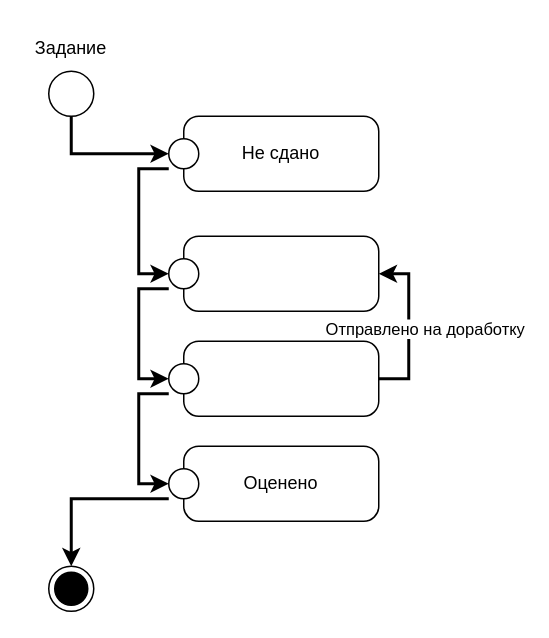
Some shapes in this 549 by 638 pixel diagram are drawn without their labels. Here are the shapes that lost their labels. From the top down, the centre of each, then its label:
[273,273]: Черновик
[273,378]: Отправлено на оценку
